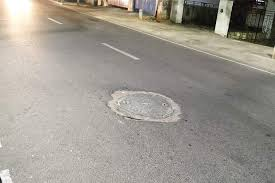Manhole-Closed: (104, 81, 200, 129)
